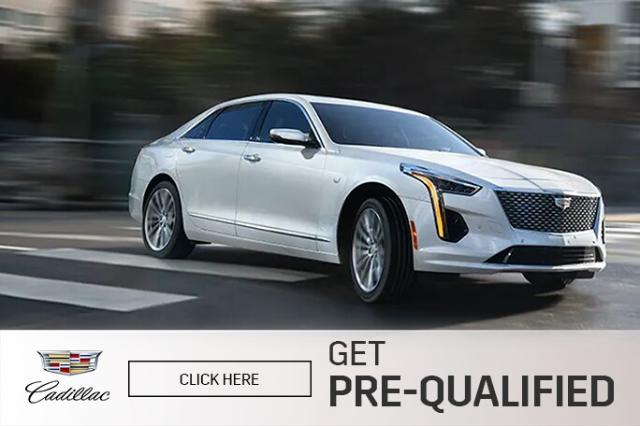cadillac: (128, 93, 606, 303)
